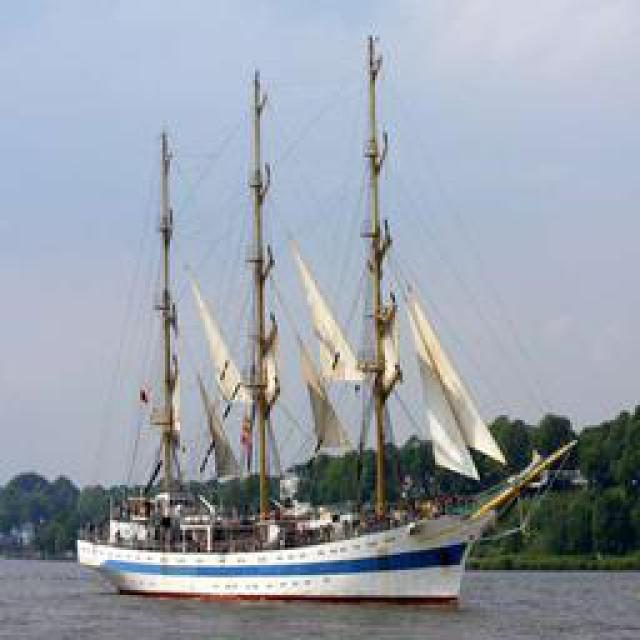Ship: (86, 41, 536, 596)
